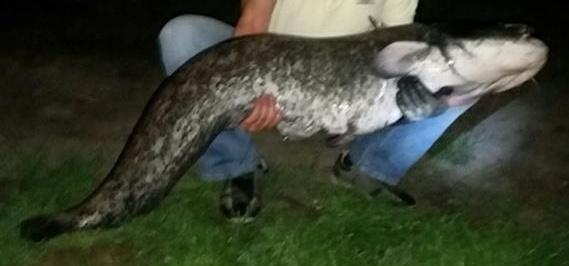Catfish: (20, 19, 558, 245)
